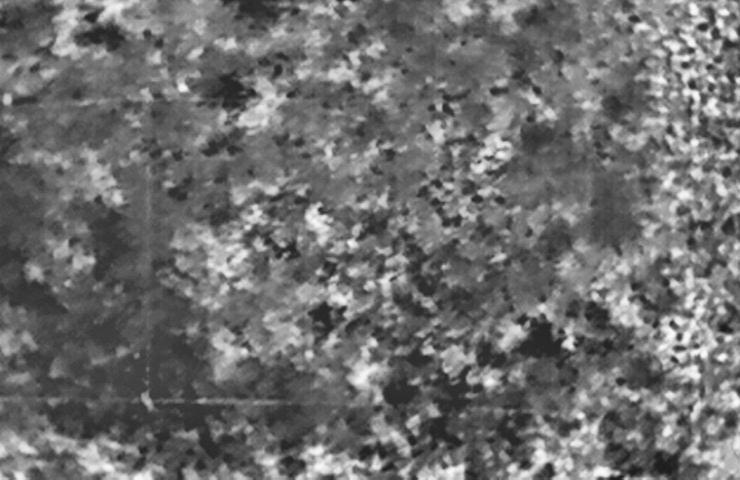landmines: (302, 202, 346, 248)
